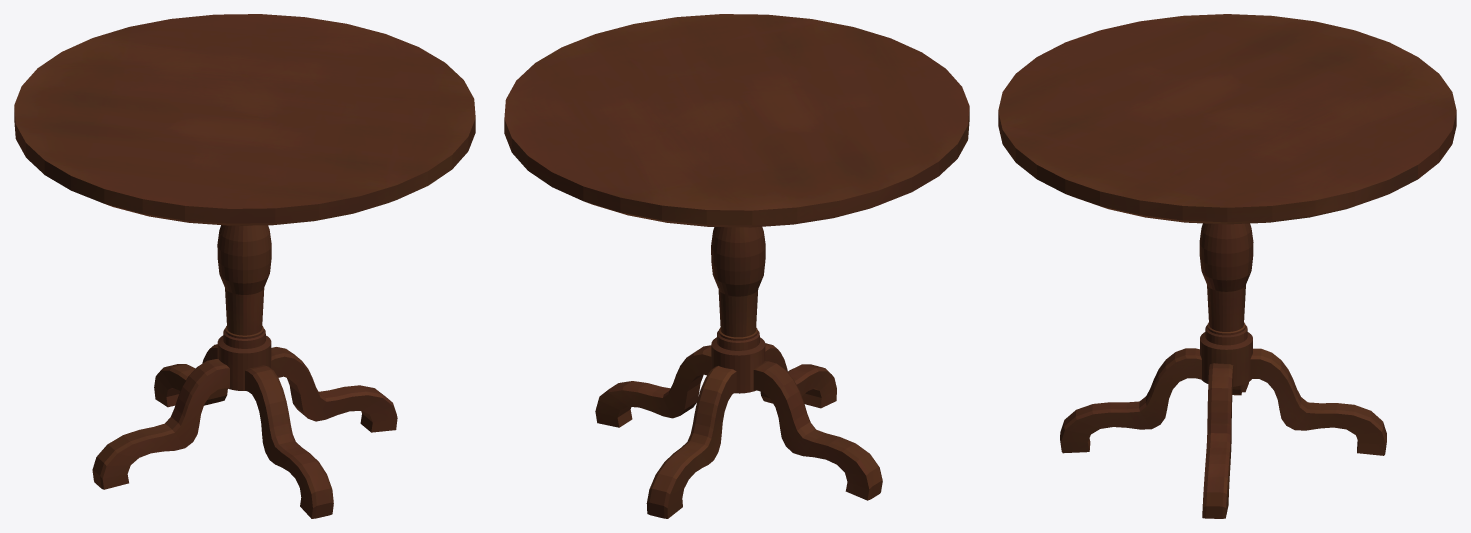
Rendered from table_mod.fbx.
3 views of the same model, side by side, from view 1: azimuth 30°, elevation 25°; view 2: azimuth 150°, elevation 25°; view 3: azimuth 270°, elevation 25° (orthographic).
Visible parts, largest first — view 1: Cube.029; view 2: Cube.029; view 3: Cube.029.
Part boxes in pixels (bbox=[...]): Cube.029: bbox=[14, 14, 475, 518]; Cube.029: bbox=[504, 14, 969, 518]; Cube.029: bbox=[998, 14, 1456, 518].
Bounding box in the file's own units: 465 × 381 × 465.
1 material, 1 textured.
